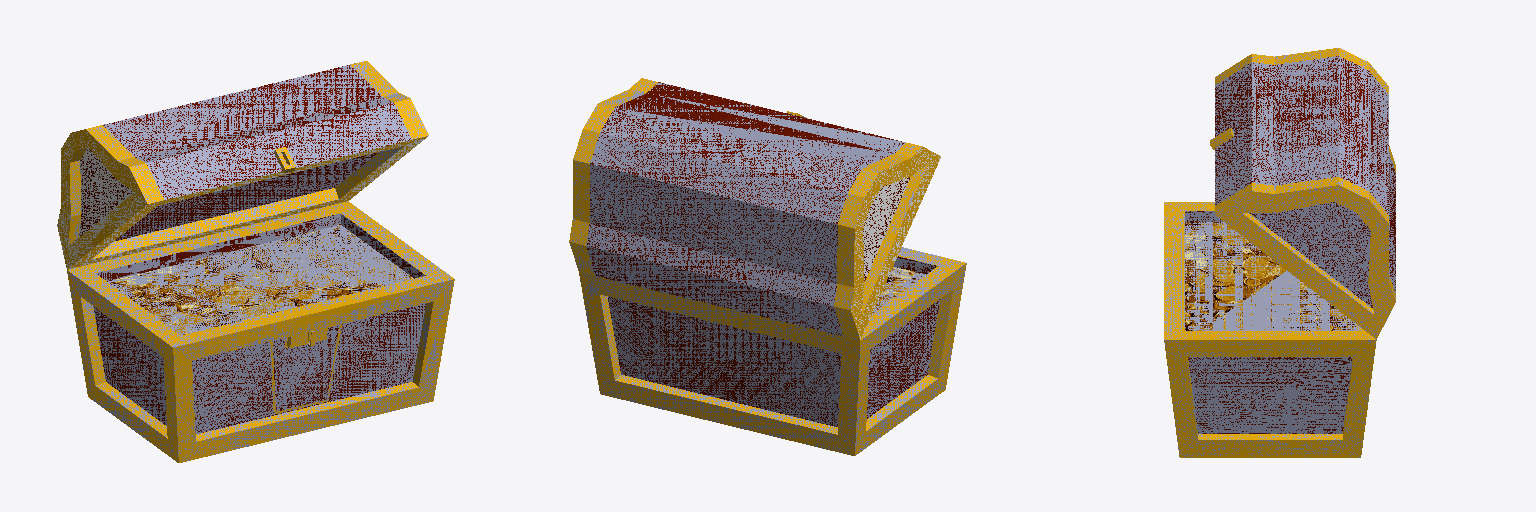
3 views of the same model, side by side, from view 1: azimuth 30°, elevation 25°; view 2: azimuth 150°, elevation 25°; view 3: azimuth 270°, elevation 25° (orthographic).
Parts seen in each view (by area): view 1: SketchUp_ID3, SketchUp.019_ID197, SketchUp.006_ID74, SketchUp.012_ID135, SketchUp.024_ID241, SketchUp.004_ID49, SketchUp.010_ID117, SketchUp.005_ID64, SketchUp.023_ID231, SketchUp.016_ID173, SketchUp.002_ID33, SketchUp.011_ID127 (+1 smaller); view 2: SketchUp.019_ID197, SketchUp_ID3, SketchUp.014_ID153, SketchUp.004_ID49, SketchUp.013_ID145, SketchUp.023_ID231, SketchUp.002_ID33, SketchUp.020_ID207, SketchUp.006_ID74; view 3: SketchUp_ID3, SketchUp.019_ID197, SketchUp.006_ID74, SketchUp.008_ID99, SketchUp.025_ID251, SketchUp.001_ID23, SketchUp.018_ID189.
Boxes of the visible parts, x1,y1,x2,y2 form: SketchUp_ID3: [57, 61, 454, 462]; SketchUp.019_ID197: [103, 65, 411, 199]; SketchUp.006_ID74: [108, 225, 413, 334]; SketchUp.012_ID135: [192, 304, 425, 433]; SketchUp.024_ID241: [115, 152, 377, 240]; SketchUp.004_ID49: [93, 306, 166, 425]; SketchUp.010_ID117: [273, 325, 339, 411]; SketchUp.005_ID64: [96, 213, 425, 281]; SketchUp.023_ID231: [79, 148, 134, 236]; SketchUp.016_ID173: [196, 302, 433, 441]; SketchUp.002_ID33: [81, 297, 167, 438]; SketchUp.011_ID127: [270, 324, 341, 414]; SketchUp.019_ID197: [586, 82, 905, 336]; SketchUp_ID3: [569, 78, 966, 455]; SketchUp.014_ID153: [608, 297, 841, 426]; SketchUp.004_ID49: [867, 299, 939, 418]; SketchUp.013_ID145: [600, 295, 837, 434]; SketchUp.023_ID231: [863, 177, 910, 280]; SketchUp.002_ID33: [866, 290, 952, 430]; SketchUp.020_ID207: [862, 165, 927, 313]; SketchUp.006_ID74: [872, 267, 925, 313]; SketchUp_ID3: [1164, 48, 1395, 457]; SketchUp.019_ID197: [1215, 56, 1395, 292]; SketchUp.006_ID74: [1185, 222, 1355, 330]; SketchUp.008_ID99: [1188, 357, 1352, 433]; SketchUp.025_ID251: [1249, 202, 1372, 307]; SketchUp.001_ID23: [1187, 357, 1353, 439]; SketchUp.018_ID189: [1243, 213, 1373, 313].
Size of the model in its own units: 0.6715 by 0.6363 by 0.4789.
Materials: 6 (2 with a texture image).